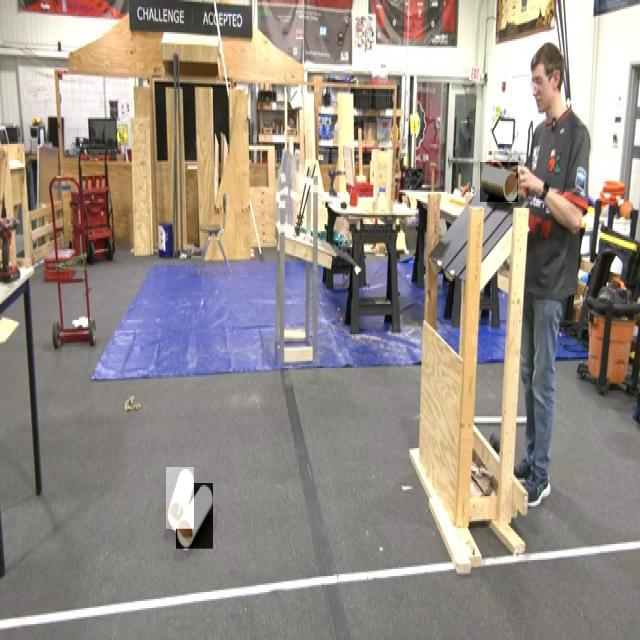Coral: (176, 484, 213, 550), (166, 468, 194, 530), (480, 162, 518, 202)
